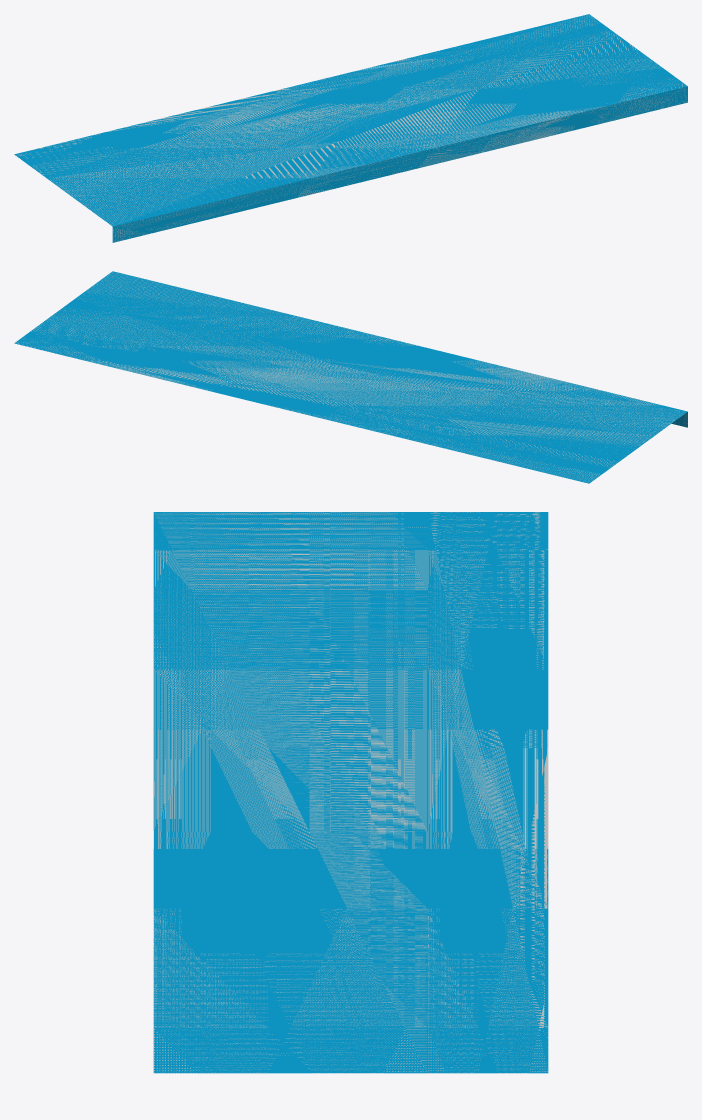
Rendered from original-43.obj.
3 renders of one model, top to bottom at view 1: azimuth 30°, elevation 25°; view 2: azimuth 150°, elevation 25°; view 3: azimuth 270°, elevation 25°, orthographic. The views are drawn at different scales.
Parts seen in each view (by area): view 1: mesh9/mesh9-geometry/material_2#mesh9-geometry; view 2: mesh9/mesh9-geometry/material_2#mesh9-geometry; view 3: mesh9/mesh9-geometry/material_2#mesh9-geometry.
Part boxes in pixels (x1,y1,x2,y2): mesh9/mesh9-geometry/material_2#mesh9-geometry: (14,14,687,242); mesh9/mesh9-geometry/material_2#mesh9-geometry: (14,271,687,483); mesh9/mesh9-geometry/material_2#mesh9-geometry: (153,512,548,1073).
Bounding box in the file's own units: 0.3742 × 0.0101 × 0.1112.
